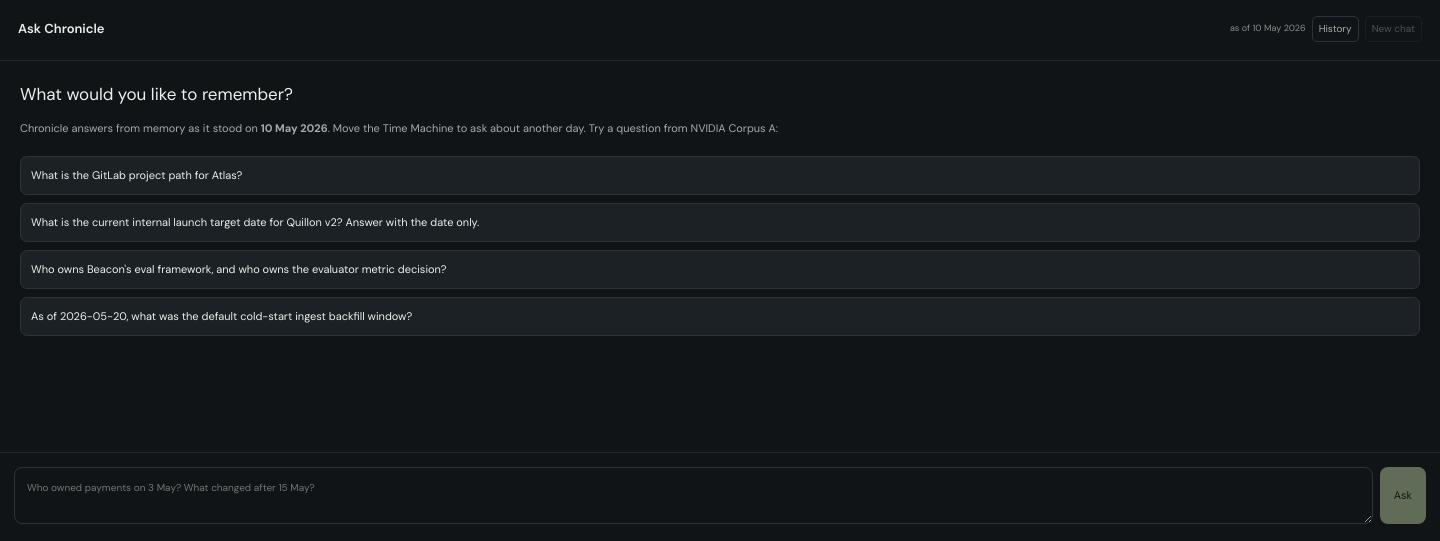
shows an error without invented facts or citations when the backend is down
The width and height of the screenshot is (1440, 541).
Type "Who owned payments?" into the text box at x=693, y=496, box [14, 467, 1373, 524]
Then press Enter
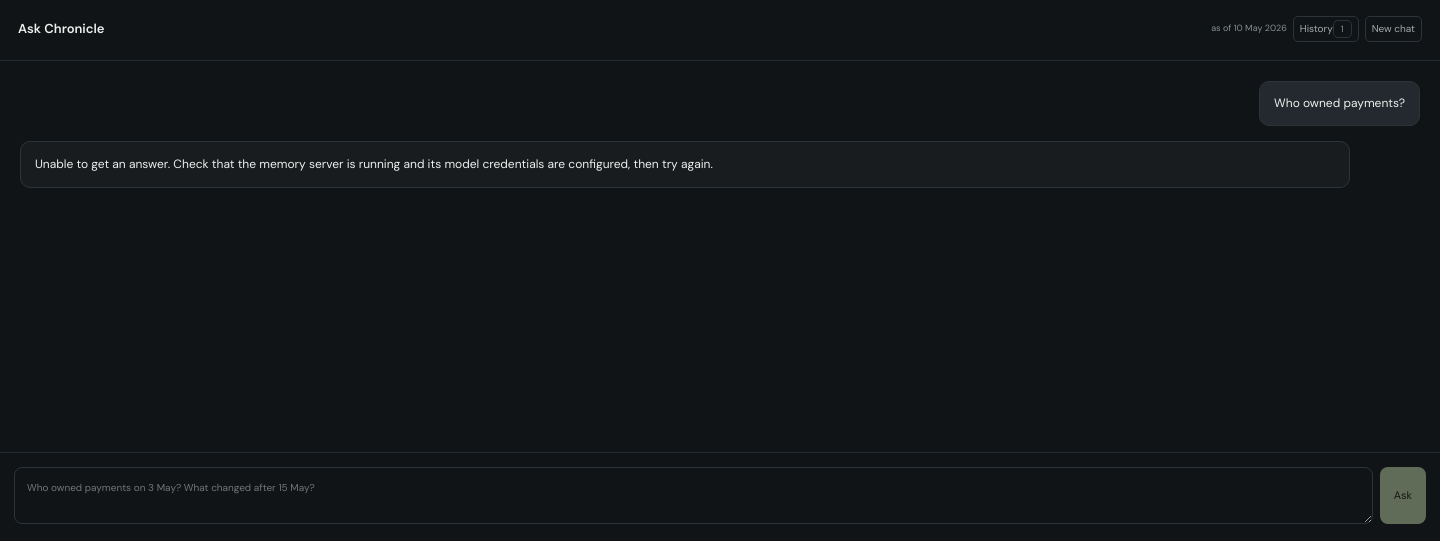
Expected: the text "Unable to get an answer" is shown, [35, 156, 713, 172]
